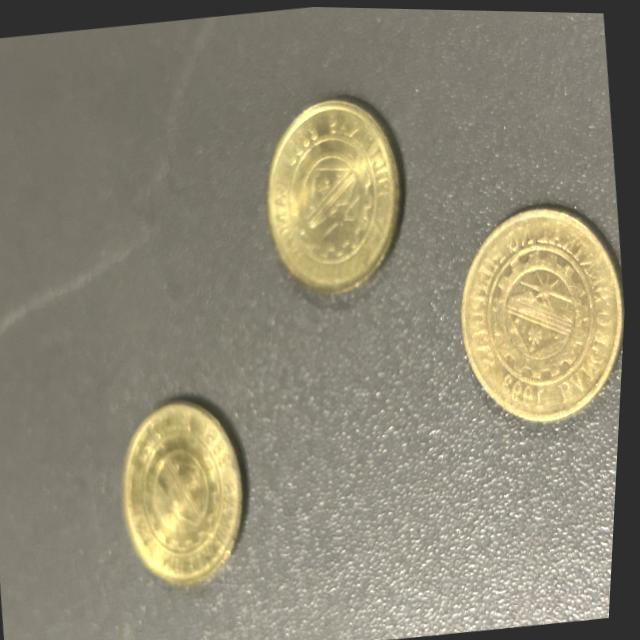25Cent_Old_Back: (480, 219, 629, 405), (270, 112, 397, 290), (125, 411, 257, 557)
